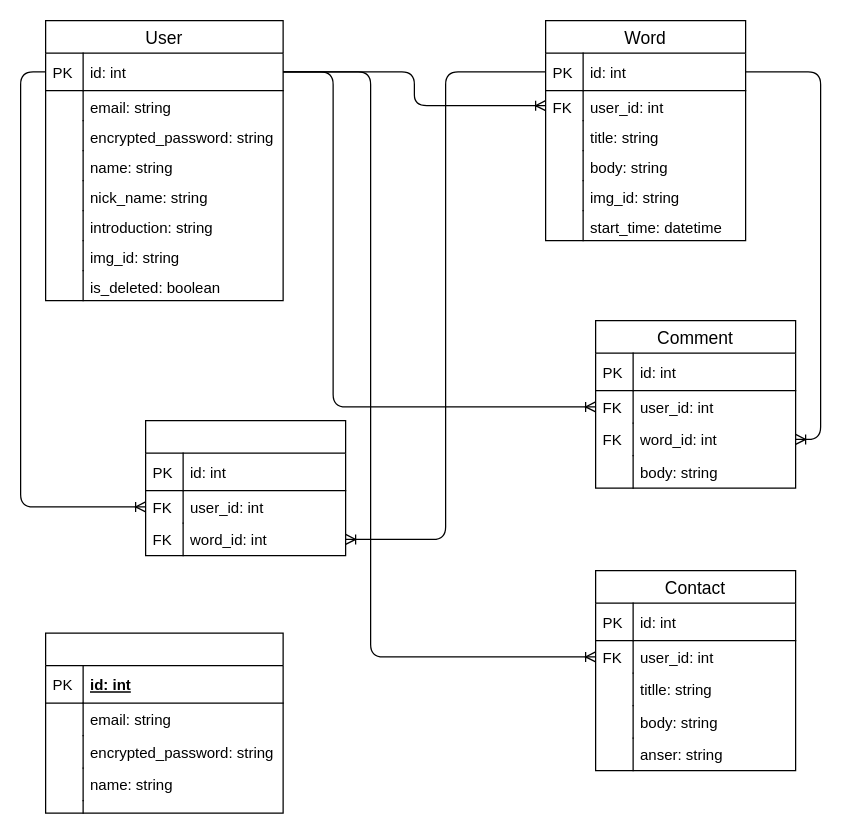
Image size: 841x834. Some labels were removed from this diagram. Each missing label, with the box of its shape:
Admin: (44, 632, 283, 813)
Like: (144, 419, 346, 556)
